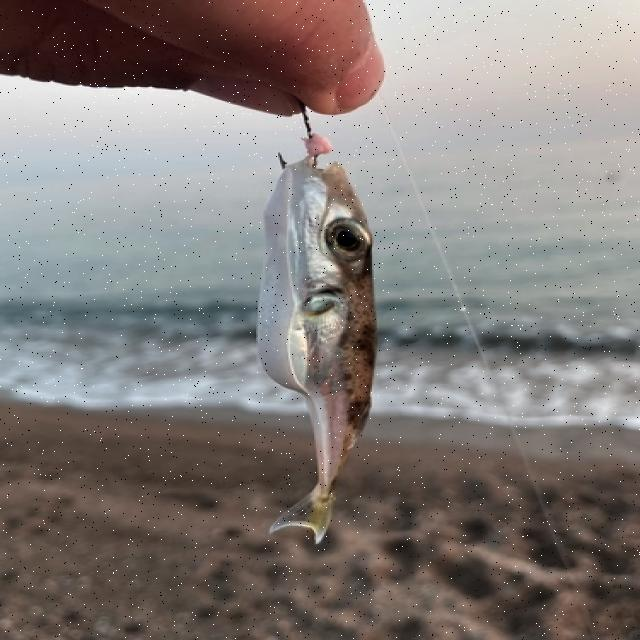Balik: (258, 157, 375, 542)
